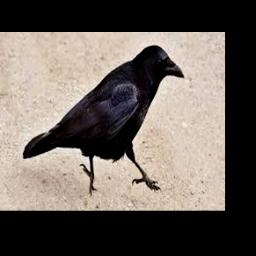Crow: (23, 45, 185, 195)
